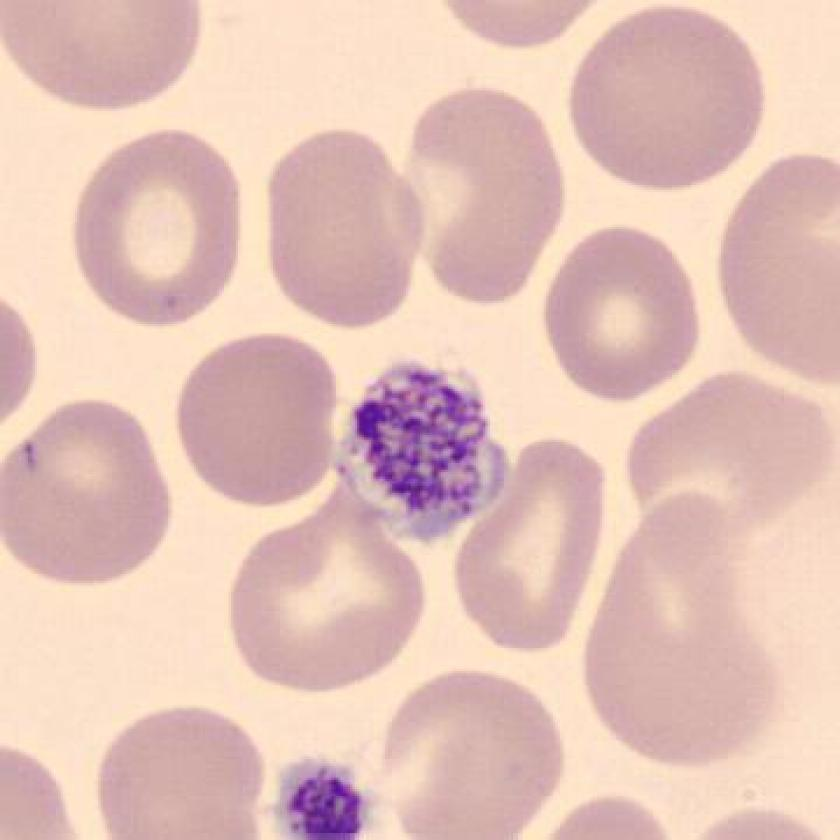platelets: (328, 357, 519, 547), (267, 757, 386, 840)
